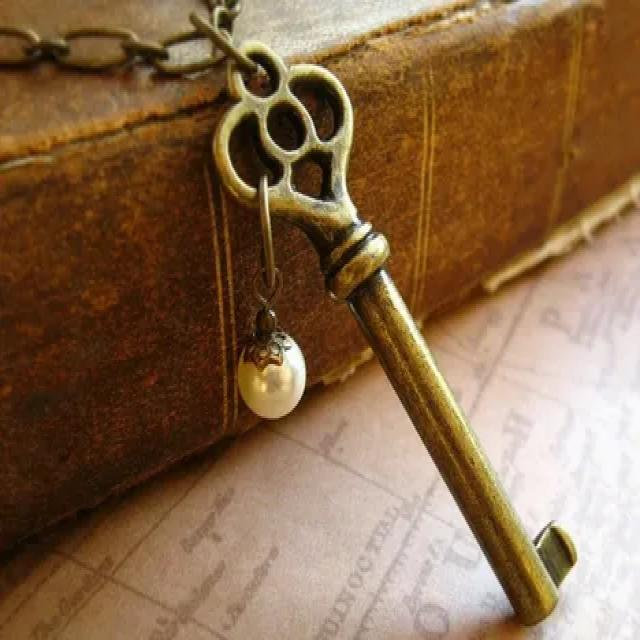key: (211, 34, 592, 630)
